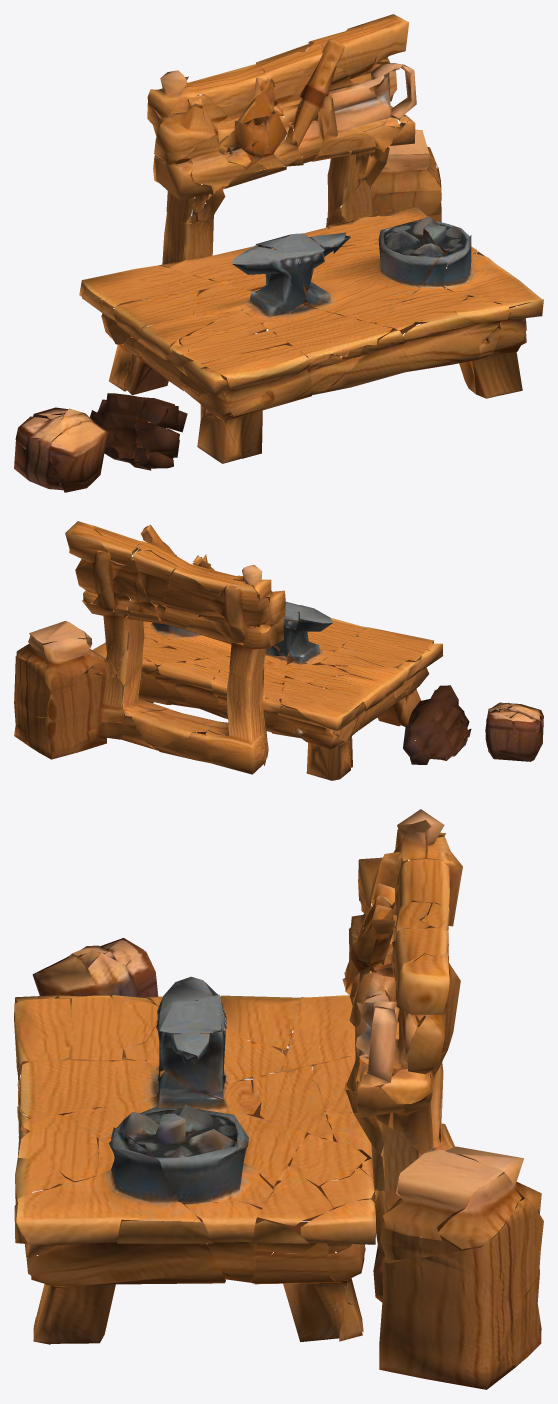
The model's file is crafting_table.glb.
3 views of the same model, one above another, from view 1: azimuth 30°, elevation 25°; view 2: azimuth 150°, elevation 25°; view 3: azimuth 270°, elevation 25° (orthographic). The views are drawn at different scales.
Visible parts, largest first — view 1: Mesh_0; view 2: Mesh_0; view 3: Mesh_0.
Boxes of the visible parts, left/top/right/bottom form: Mesh_0: left=14, top=14, right=543, bottom=492; Mesh_0: left=14, top=521, right=543, bottom=780; Mesh_0: left=14, top=809, right=543, bottom=1389.
Size of the model in its own units: 1.9 by 0.924 by 1.13.
1 material, 1 textured.
